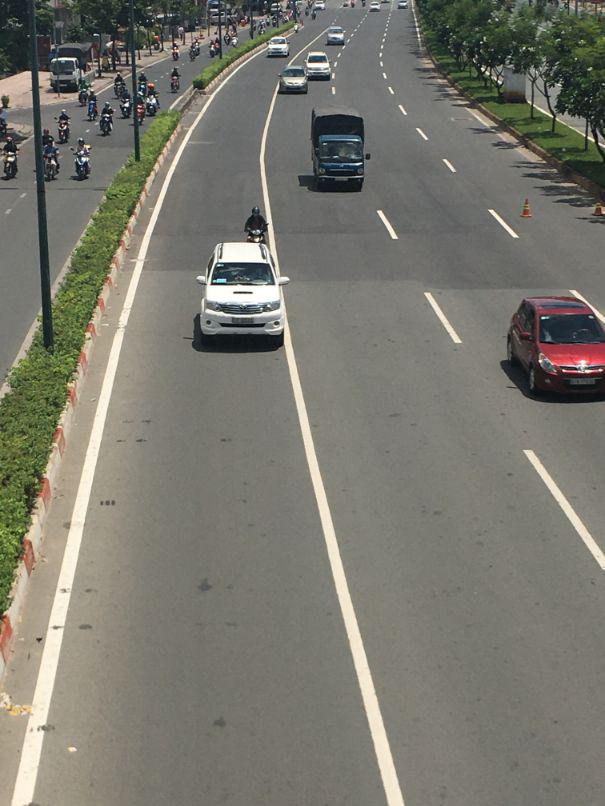car: (508, 293, 605, 403), (191, 238, 285, 350), (306, 52, 333, 82), (280, 65, 308, 93), (269, 37, 290, 59), (326, 27, 343, 46)
motorbike: (75, 153, 93, 181), (45, 152, 61, 180), (100, 110, 114, 135)
truck: (308, 110, 368, 193), (49, 42, 101, 94)
